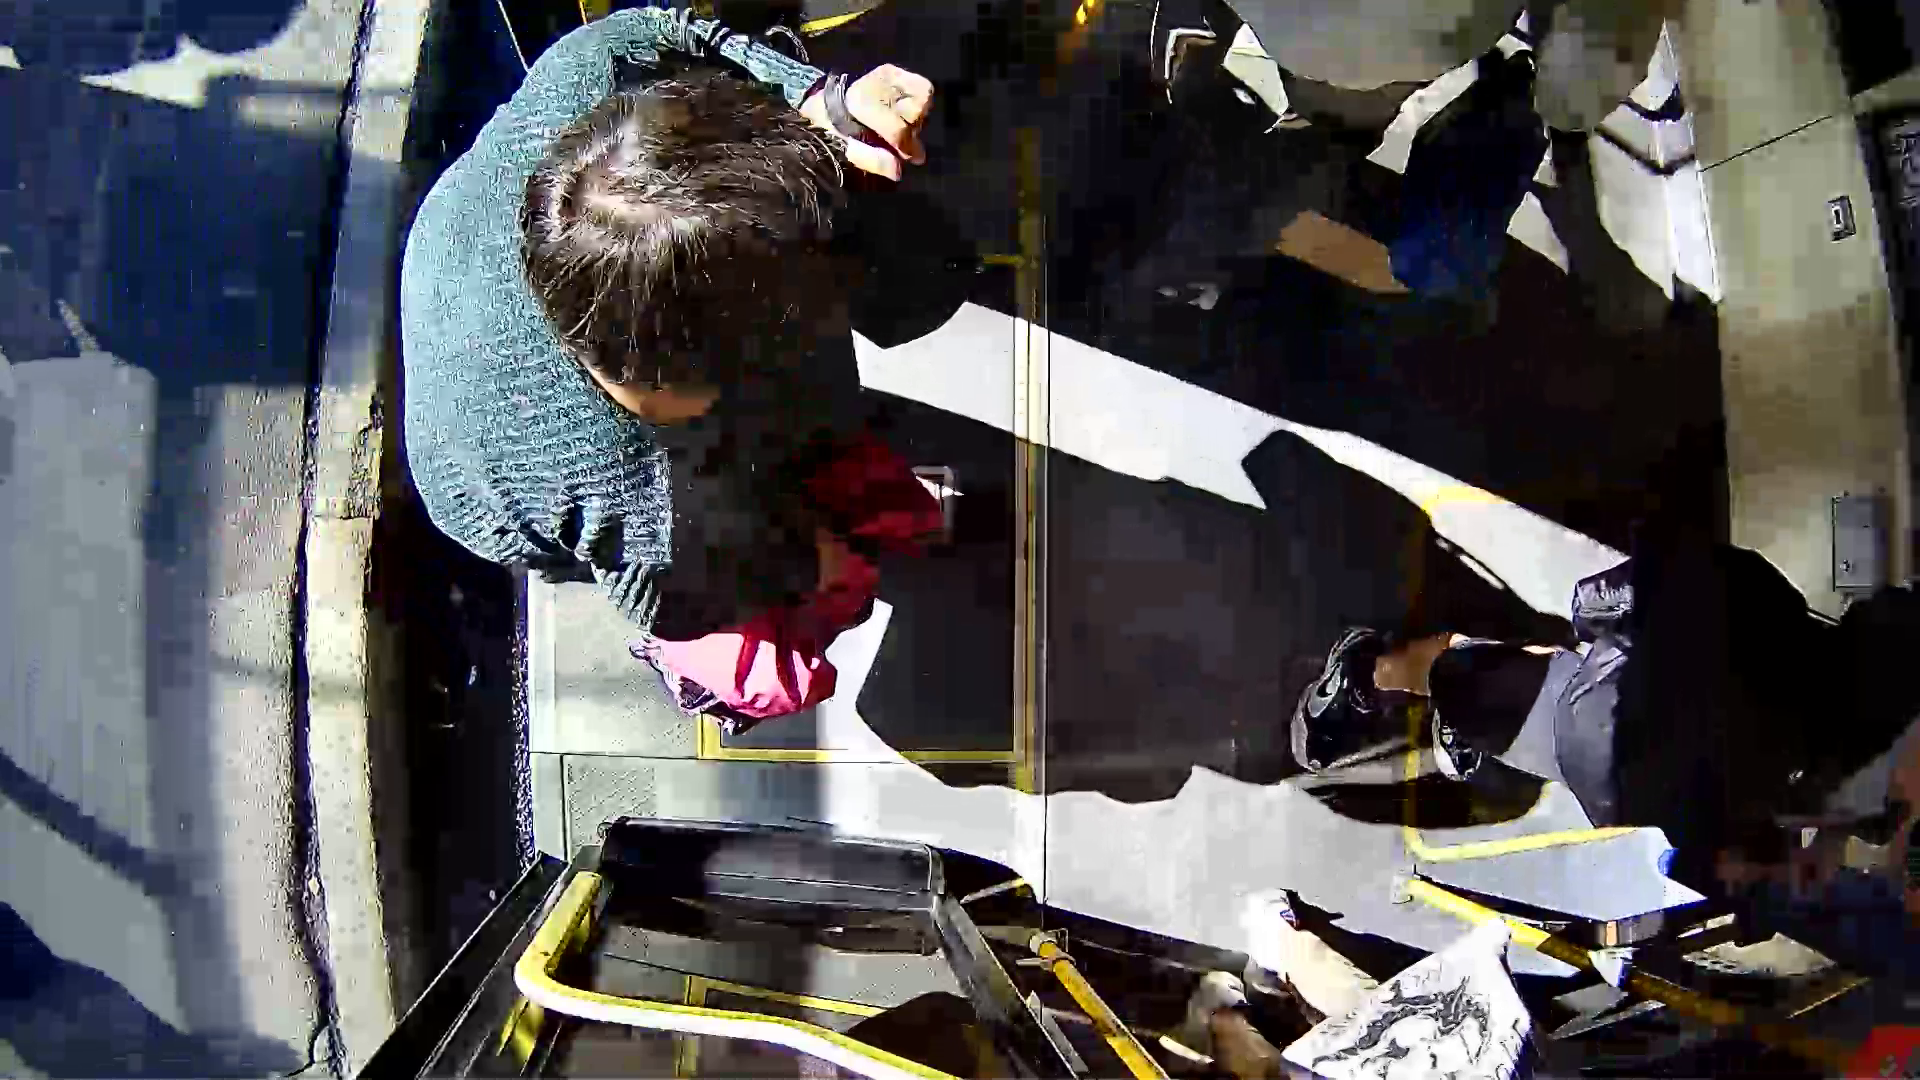person: (388, 24, 1106, 705)
